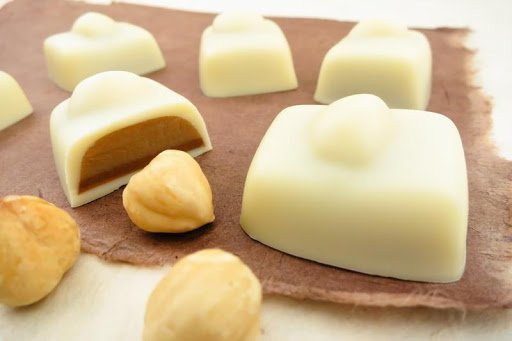pasta: (122, 148, 215, 235)
